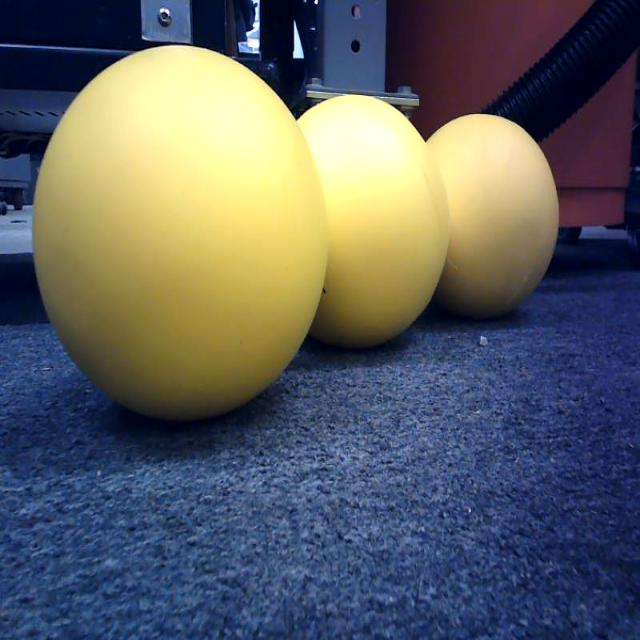Fuel: (32, 44, 328, 422), (266, 93, 450, 350), (414, 113, 559, 317)
